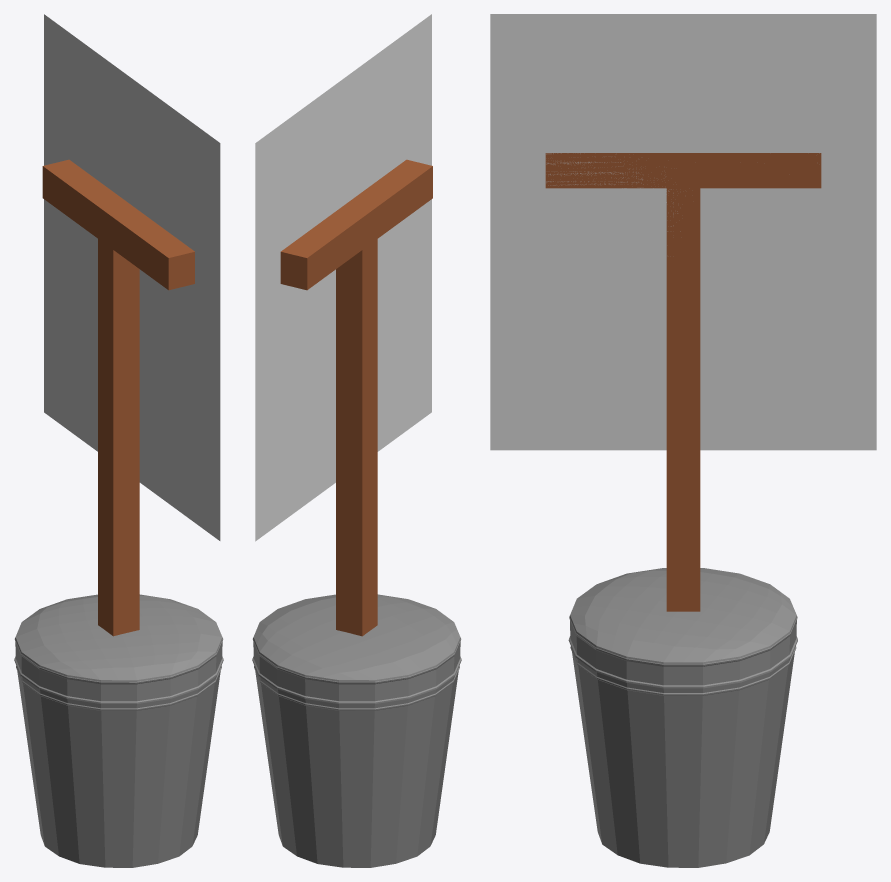
Rendered from prop1.fbx.
3 views of the same model, side by side, from view 1: azimuth 30°, elevation 25°; view 2: azimuth 150°, elevation 25°; view 3: azimuth 270°, elevation 25° (orthographic). The views are drawn at different scales.
Visible parts, largest first — view 1: Cylinder.006; view 2: Cylinder.006; view 3: Cylinder.006.
Part boxes in pixels (bbox=[...]): Cylinder.006: bbox=[14, 14, 223, 867]; Cylinder.006: bbox=[252, 14, 461, 867]; Cylinder.006: bbox=[490, 14, 876, 867].
Size of the model in its own units: 42.88 by 174 by 73.4.
